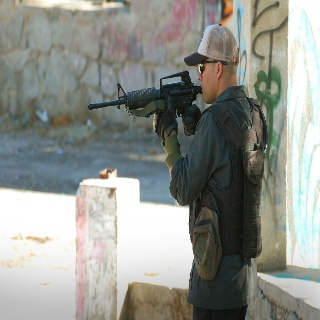rifle: (88, 70, 202, 133)
